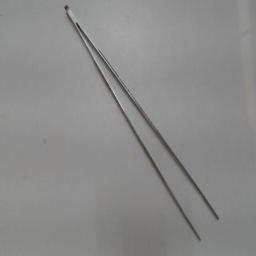DeBakey Dissector: (57, 2, 235, 250)
